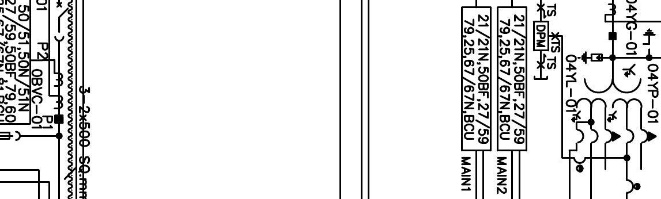115_gs: (642, 27, 657, 51)
115_la: (577, 50, 603, 65)
115_vt_3p: (571, 63, 657, 144)
DPM: (533, 20, 549, 51)
